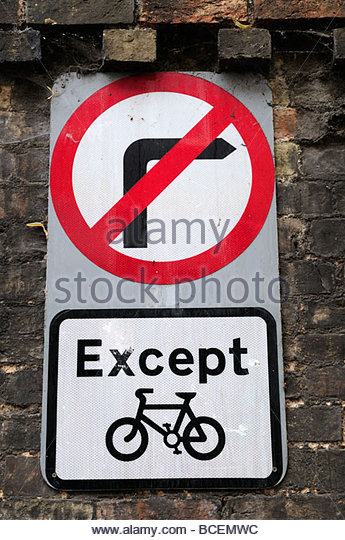No_right_turn: (48, 71, 276, 283)
